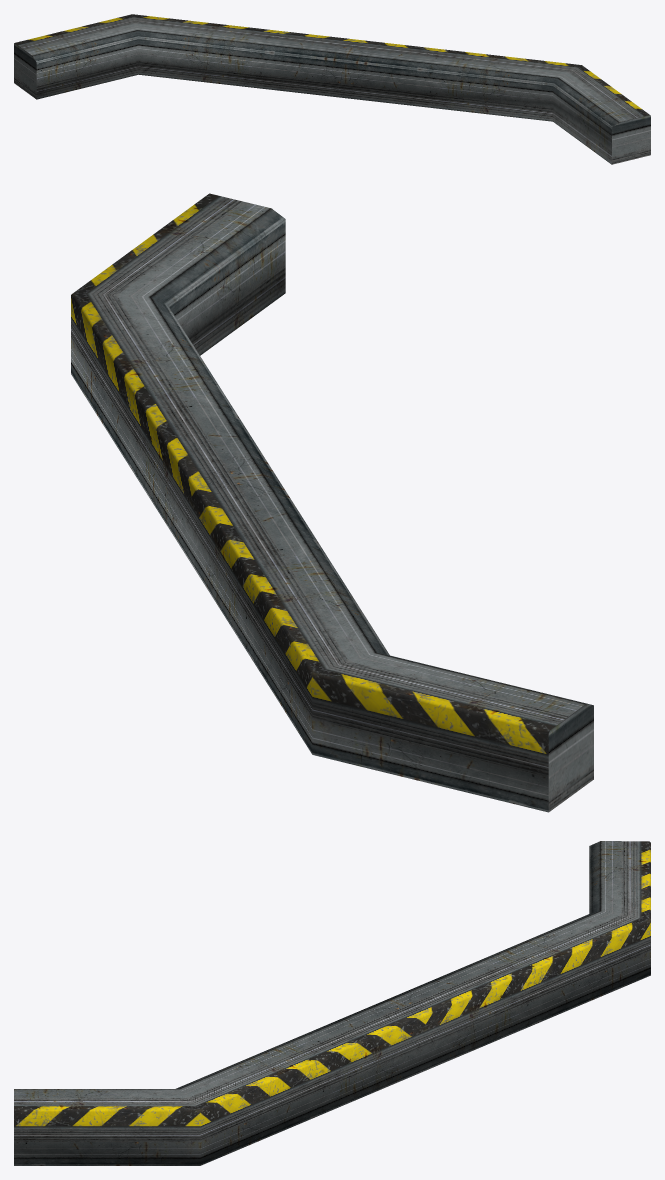
File: Edges_08.fbx
3 renders of one model, top to bottom at view 1: azimuth 30°, elevation 25°; view 2: azimuth 150°, elevation 25°; view 3: azimuth 270°, elevation 25°, orthographic. The views are drawn at different scales.
Parts seen in each view (by area): view 1: Edges_08; view 2: Edges_08; view 3: Edges_08.
Boxes of the visible parts, x1=… form: Edges_08: x1=14, y1=14, x2=650, y2=164; Edges_08: x1=71, y1=193, x2=593, y2=812; Edges_08: x1=14, y1=841, x2=650, y2=1165.
Bounding box in the file's own units: 285 × 27.46 × 285.
Materials: 1 (1 with a texture image).
